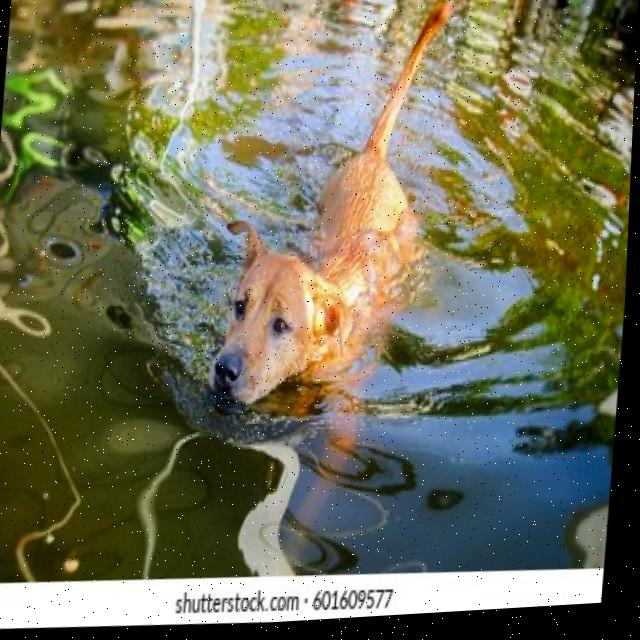dog: (205, 0, 459, 423)
